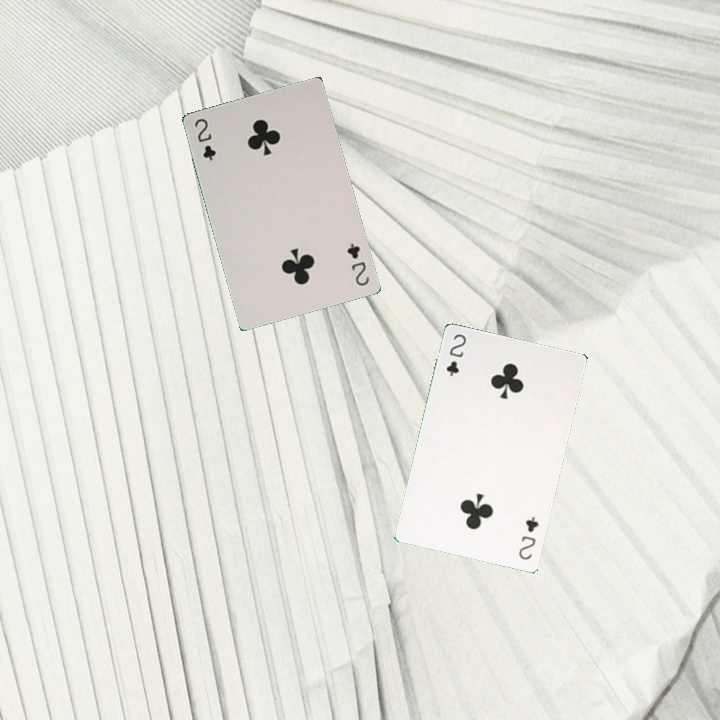2c: (343, 239, 372, 288), (190, 114, 218, 163), (514, 512, 541, 562), (442, 330, 469, 379)
